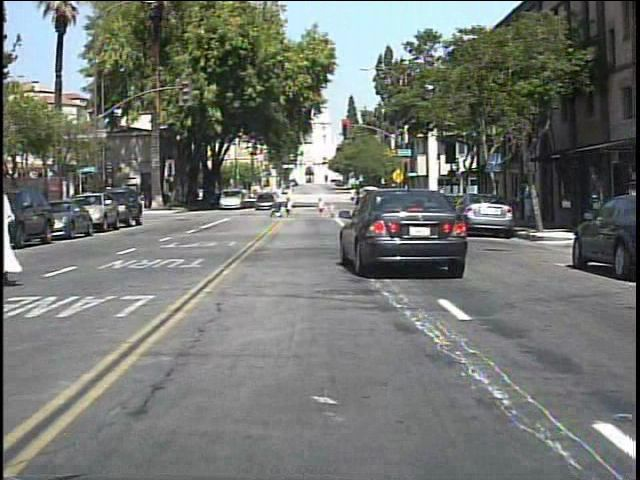person: (518, 174, 542, 229), (286, 183, 302, 221)
